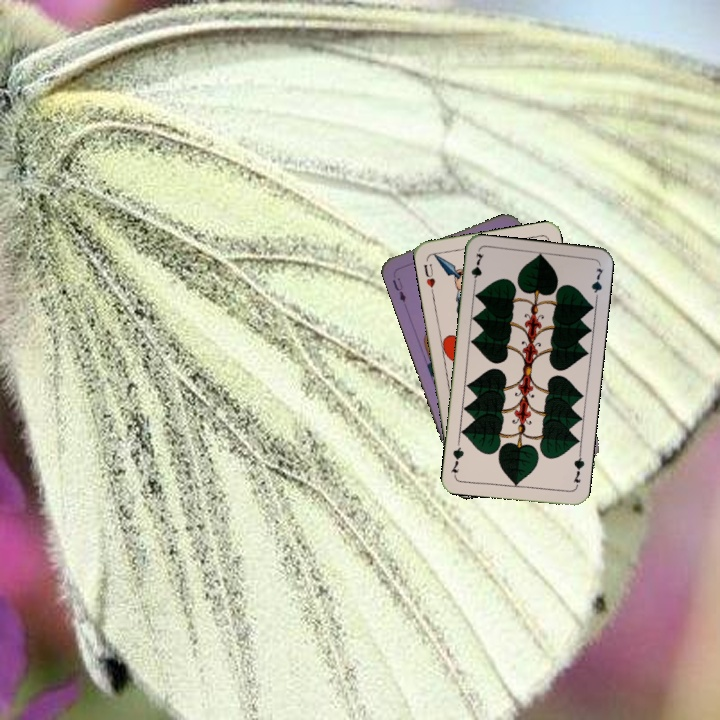EU: (388, 274, 409, 305)
G7: (467, 249, 486, 290), (569, 449, 587, 490)
HU: (420, 260, 438, 296)
